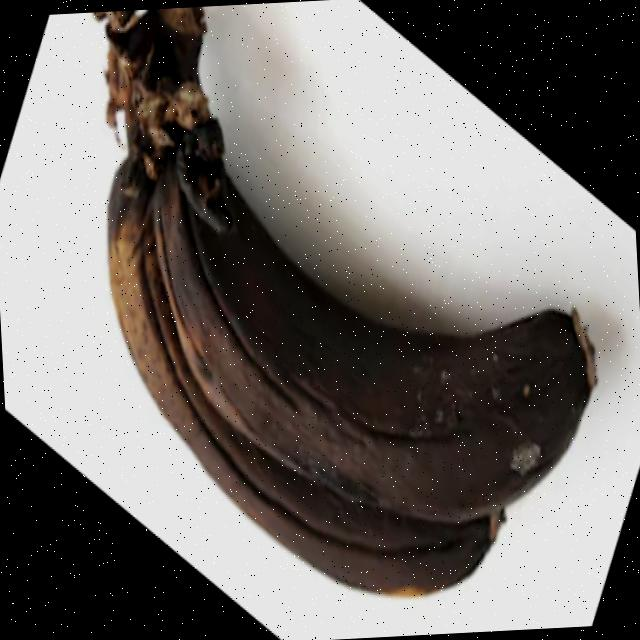Rotten: (148, 124, 606, 538)
